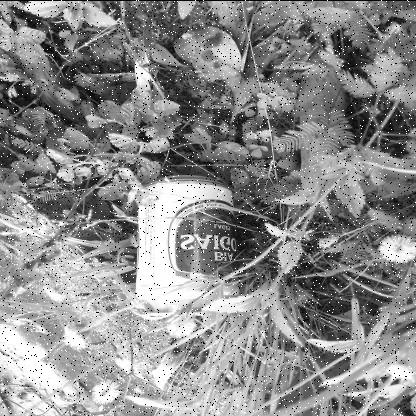metal: (133, 173, 242, 317)
